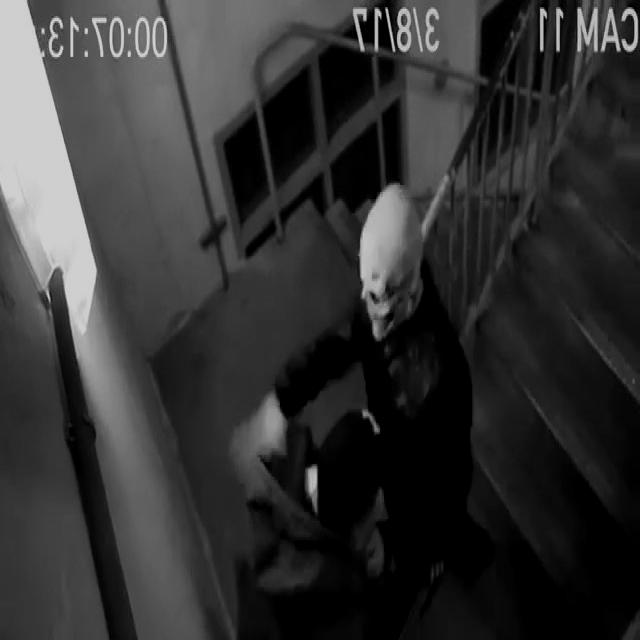fight: (230, 179, 472, 640)
